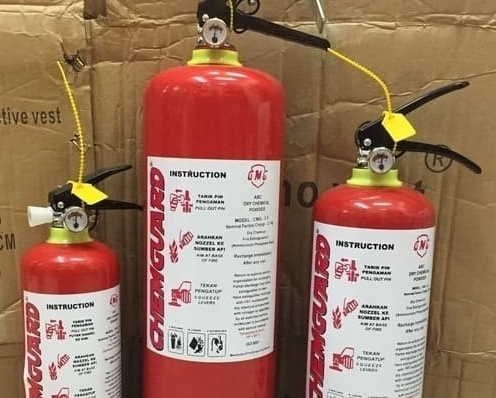fire_extinguisher: (139, 0, 331, 398), (303, 47, 482, 398), (304, 79, 482, 398), (18, 164, 142, 398)
